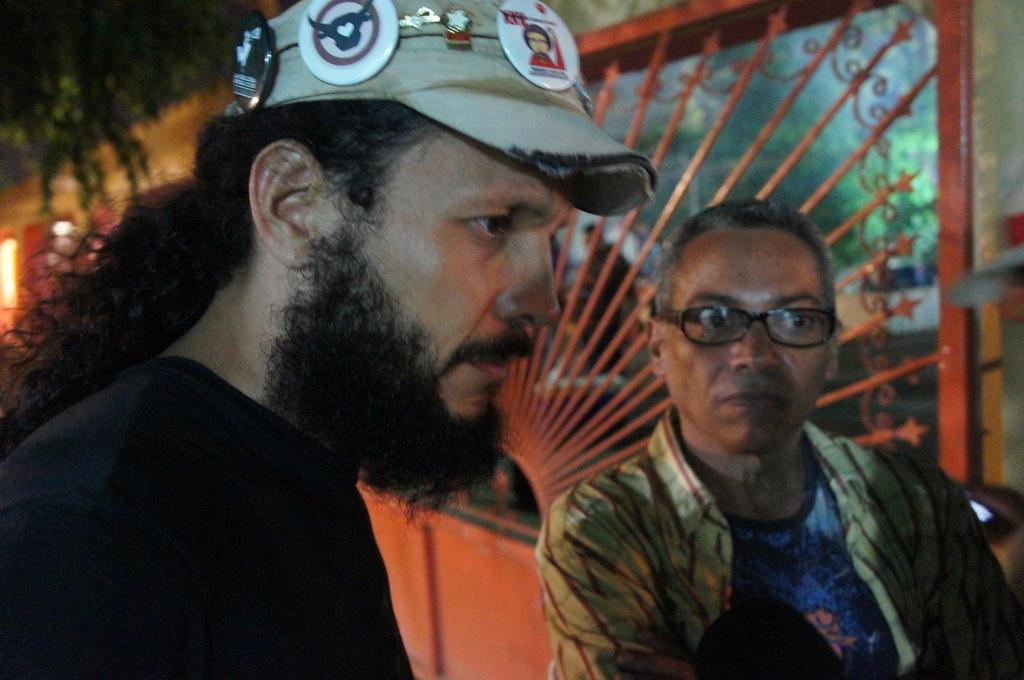Hat: (224, 0, 656, 217)
